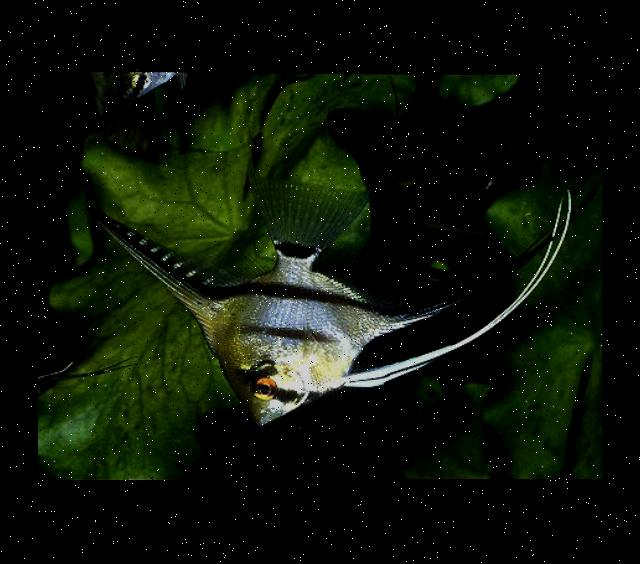Mulut: (233, 405, 293, 451)
Sirip Anal: (319, 190, 565, 352)
Sirip Dada: (339, 174, 585, 434)
Sirip Ekor: (239, 144, 389, 256)
Sirip Punggung: (81, 197, 247, 305)
